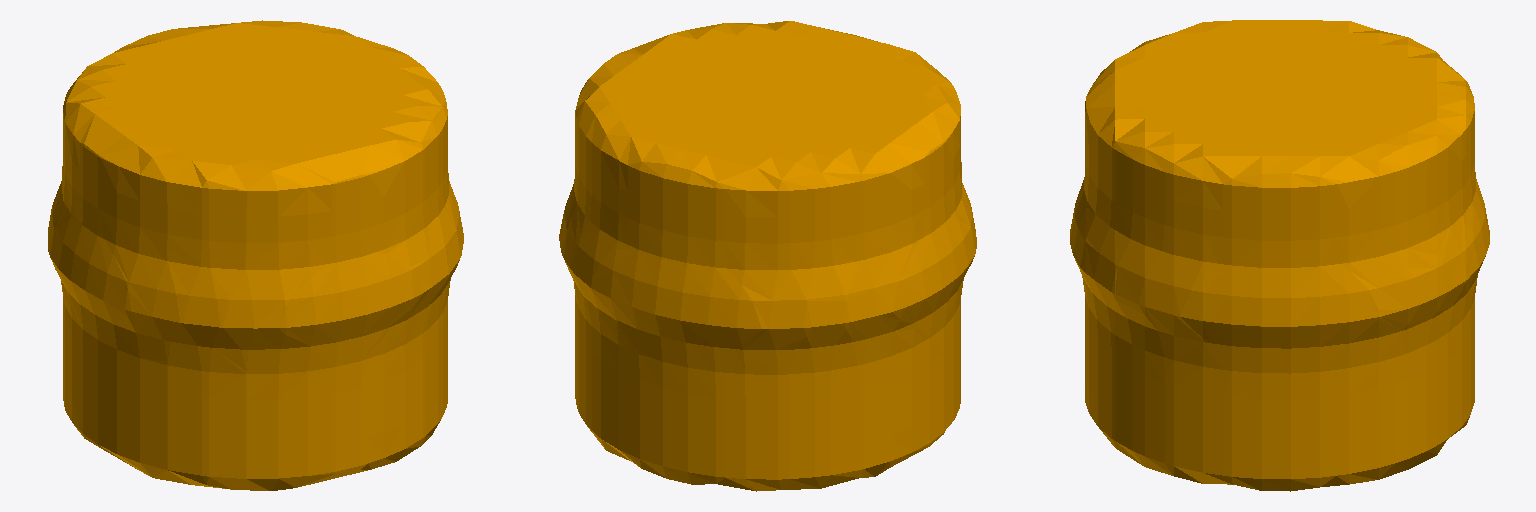
robot.urdf — cylinder_../../meshes/cylinders/cylinder_26.stl:
<?xml version="1.0" encoding="utf-8"?>  <robot name="cylinder_../../meshes/cylinders/cylinder_26.stl">   <link name="cylinder_../../meshes/cylinders/cylinder_26.stl">     <visual>       <geometry>         <mesh filename="../meshes/cylinders/cylinder_26.stl" scale="1 1 1"/>       </geometry>     </visual>     <collision>       <geometry>         <mesh filename="../meshes/cylinders/cylinder_26.stl" scale="1 1 1"/>       </geometry>     </collision>     <inertial>        <origin         xyz="0 0 0"         rpy="0 0 0" />       <mass value="0.21939911023577685"/>       <origin rpy="0 0 0" xyz="0 0 0"/>       <inertia ixx="0.00012914987368930217" ixy="4.0590737252114225e-09" ixz="1.8344850953952528e-08" iyy="0.00012915116758578022" iyz="1.4627798860933847e-08" izz="0.00012424521125977312"/>     </inertial>   </link>  </robot>

--- Render facts (derived) ---
3 views of the same robot in one strip: view 1: azimuth 30°, elevation 25°; view 2: azimuth 150°, elevation 25°; view 3: azimuth 270°, elevation 25° (orthographic).
Robot: cylinder_../../meshes/cylinders/cylinder_26.stl — 1 links, 0 joints (none); root link cylinder_../../meshes/cylinders/cylinder_26.stl; default pose: all joints at 0.
Visible links, largest first — view 1: cylinder_../../meshes/cylinders/cylinder_26.stl; view 2: cylinder_../../meshes/cylinders/cylinder_26.stl; view 3: cylinder_../../meshes/cylinders/cylinder_26.stl.
Boxes of the visible links, x1=… form: cylinder_../../meshes/cylinders/cylinder_26.stl: x1=48, y1=20, x2=463, y2=490; cylinder_../../meshes/cylinders/cylinder_26.stl: x1=559, y1=21, x2=976, y2=491; cylinder_../../meshes/cylinders/cylinder_26.stl: x1=1070, y1=20, x2=1489, y2=491.
Size in the robot's own frame: 0.0719 by 0.0719 by 0.062 metres.
Meshes: 1 distinct files referenced, 1 mesh visuals loaded (1 binary STL).